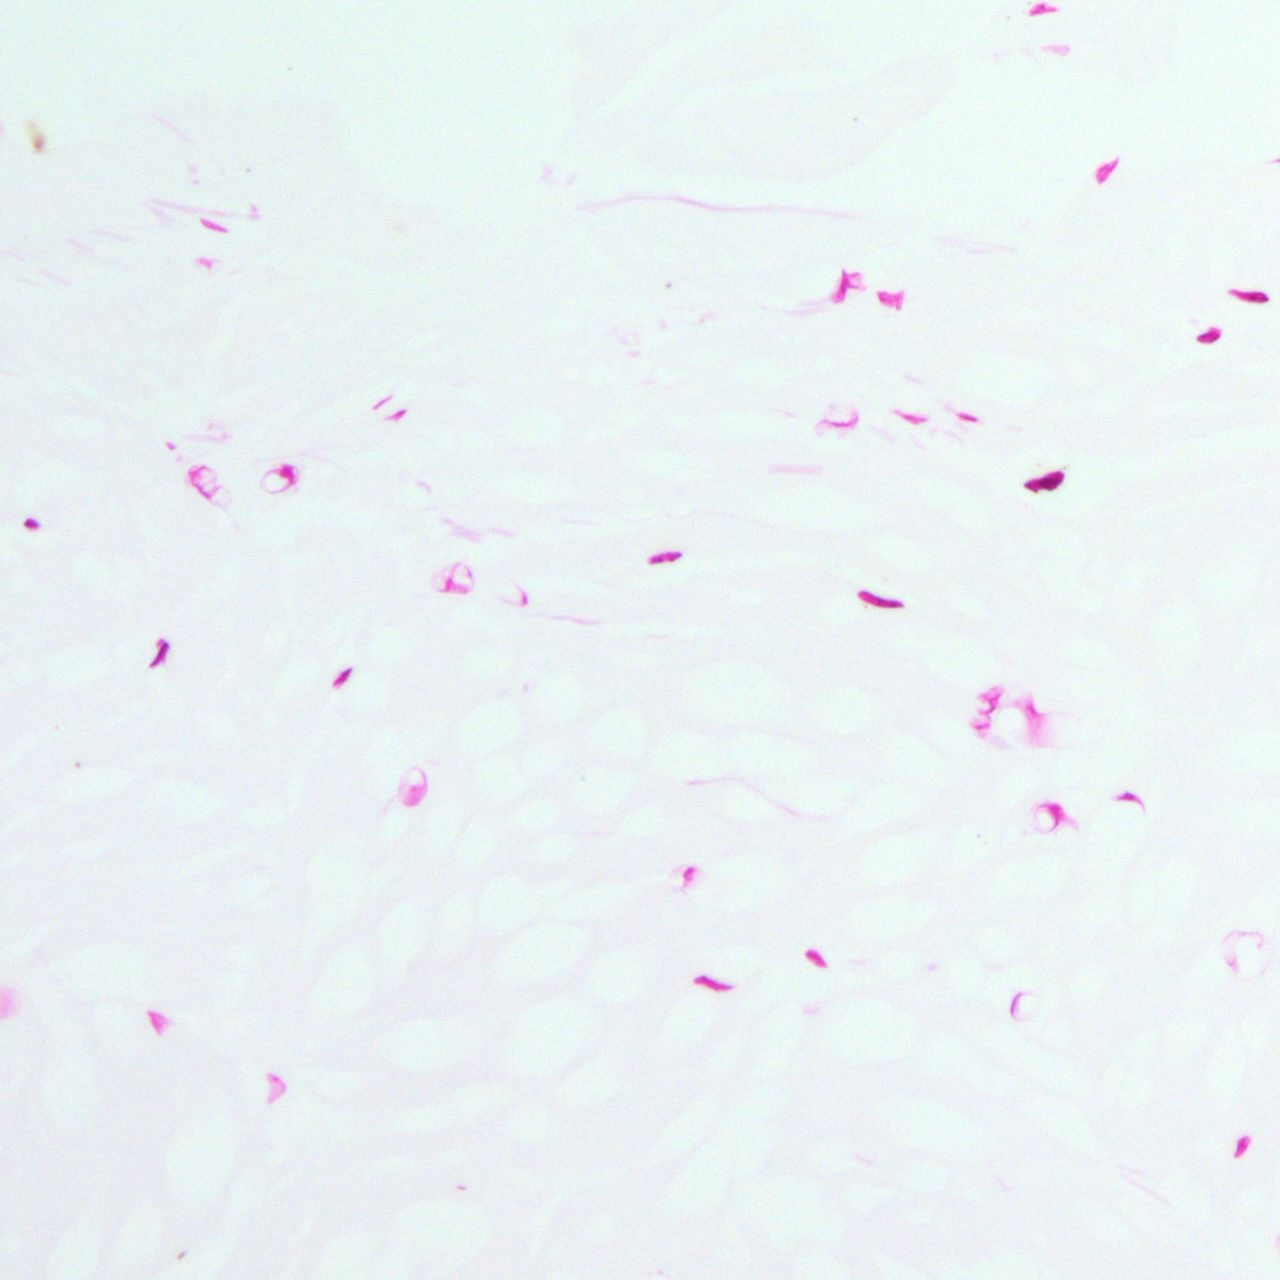dust: (27, 118, 46, 151)
nucleus-FG: (1022, 469, 1065, 497), (856, 588, 903, 612), (693, 971, 733, 995), (149, 640, 172, 670), (646, 547, 682, 566), (1228, 287, 1269, 304), (1196, 325, 1223, 349), (331, 662, 355, 689), (1231, 1132, 1252, 1159), (805, 947, 828, 971), (23, 515, 41, 533)
